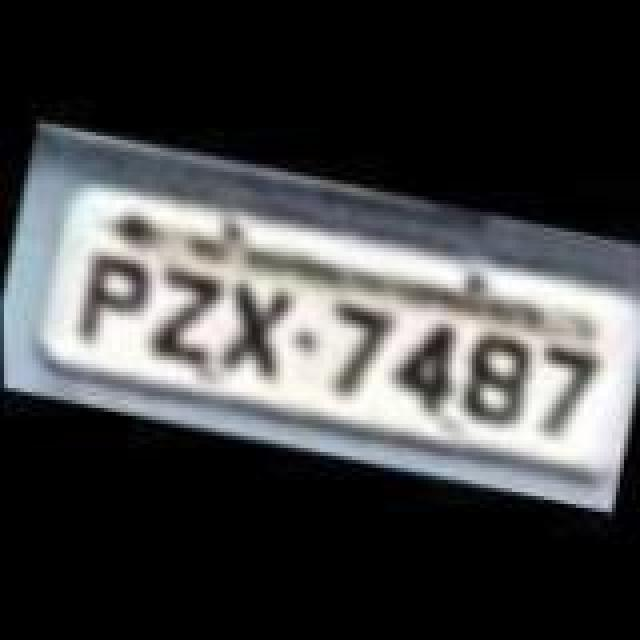4: (376, 310, 468, 426)
7: (520, 336, 608, 448), (308, 300, 392, 408)
8: (452, 326, 540, 438)
P: (62, 244, 150, 356)
X: (214, 282, 302, 390)
Z: (144, 262, 228, 370)
